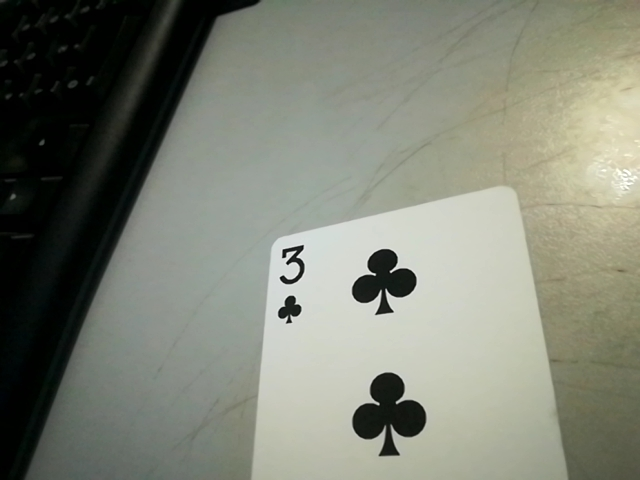mh 3: (262, 234, 315, 328)
